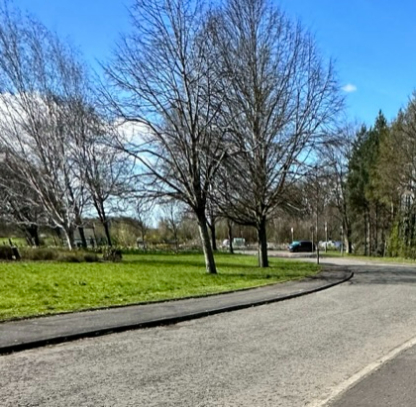car: (285, 237, 319, 257)
tree: (103, 1, 239, 276), (1, 3, 113, 250), (322, 104, 416, 250)
